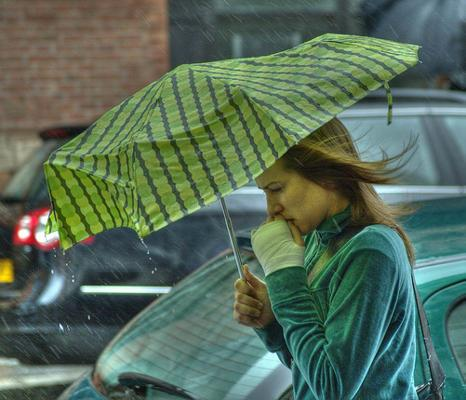person: (233, 117, 420, 400)
